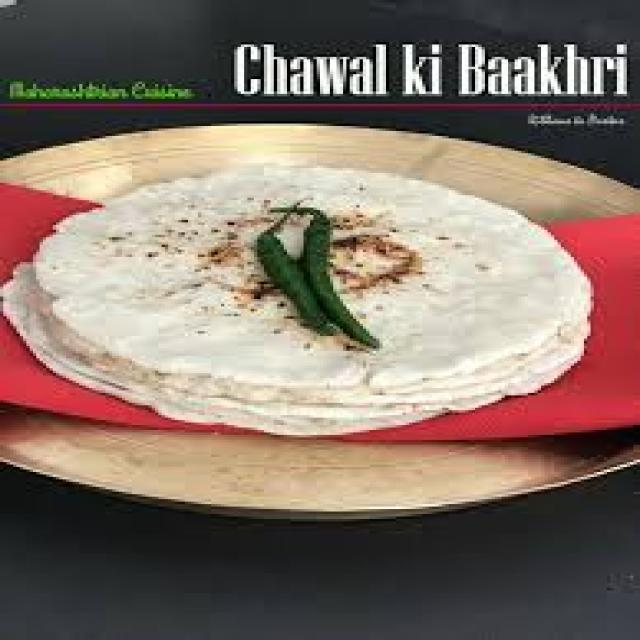RICE BHAKRI: (1, 163, 583, 439)
